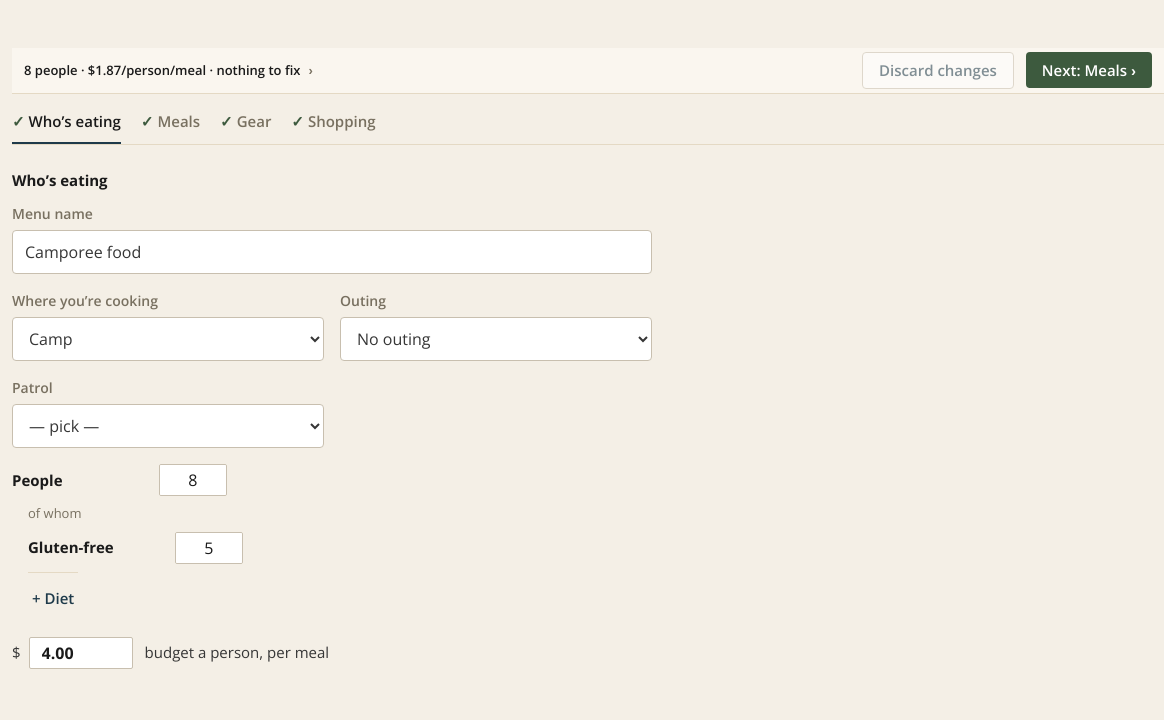
Scenario: PeopleTab — Who’s eating on its own screen › Diets_ShowOnlyThoseAboveZero_WithAddADietForTheRest
Expected: the number field labelled "Nut-free" is not shown
Click the button "+ Diet" at (53, 599), box left=28, top=577, right=78, bottom=621
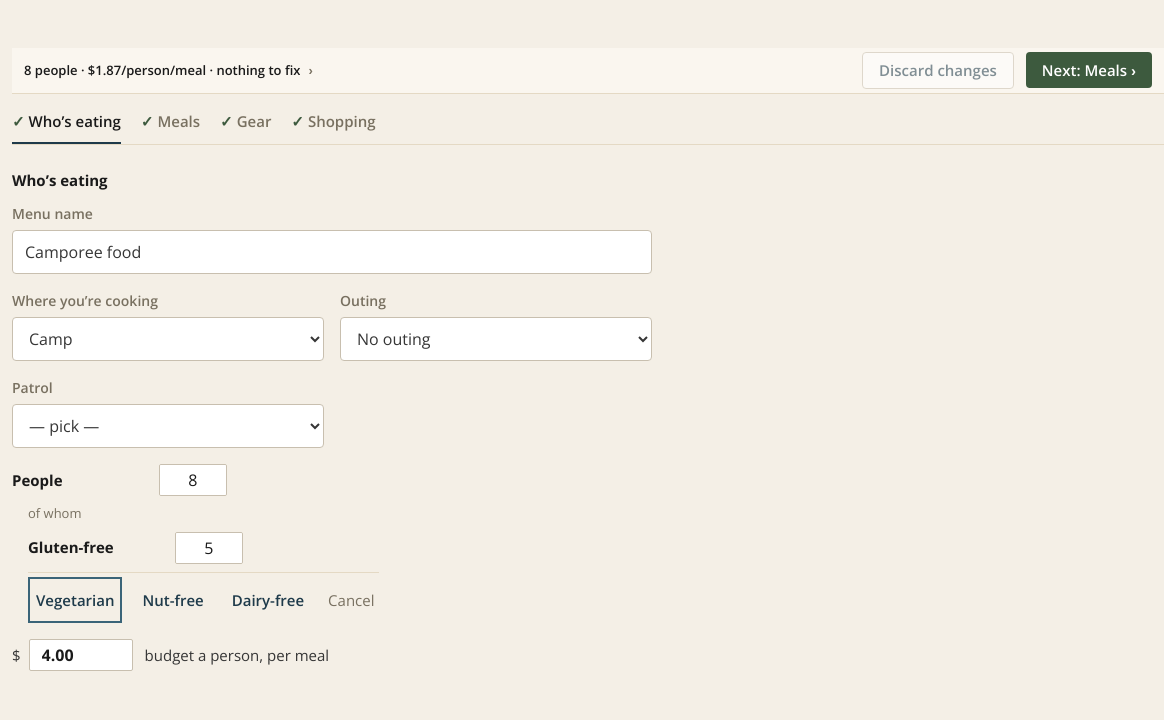
Expected: the buttons read "Vegetarian", "Nut-free", "Dairy-free", in this order
Click the button "Nut-free" at (173, 600), box left=134, top=577, right=212, bottom=623
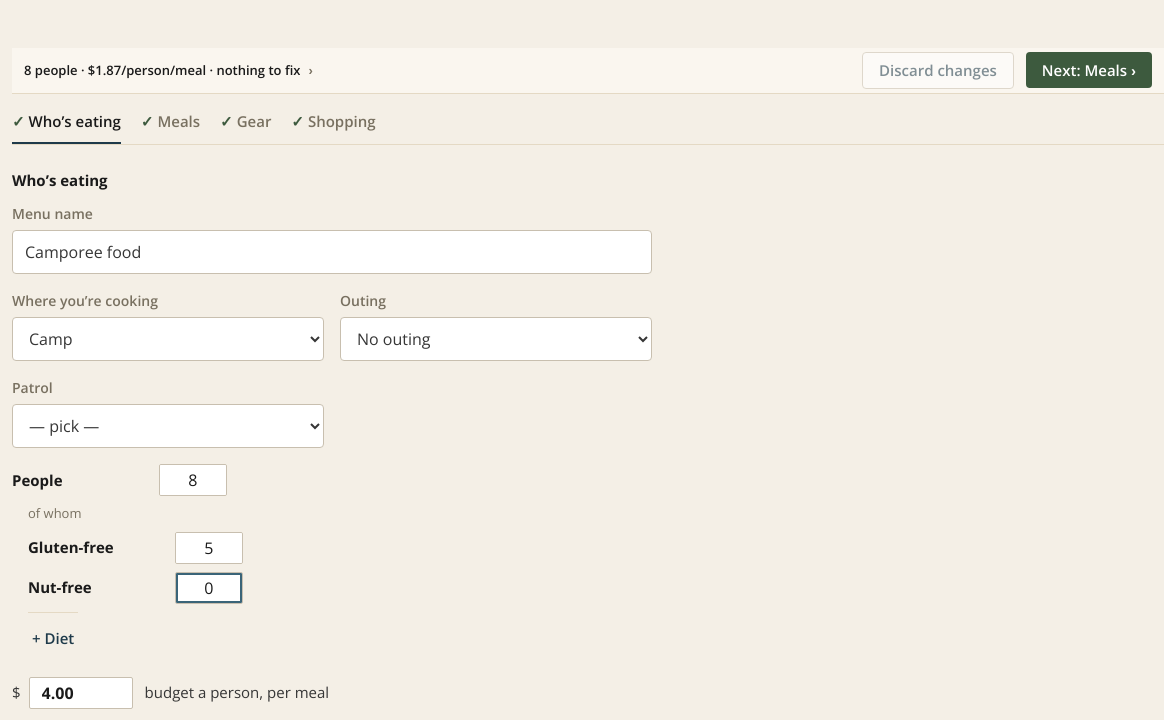
Expected: the number field labelled "Nut-free" holds "0", left=176, top=573, right=242, bottom=603
